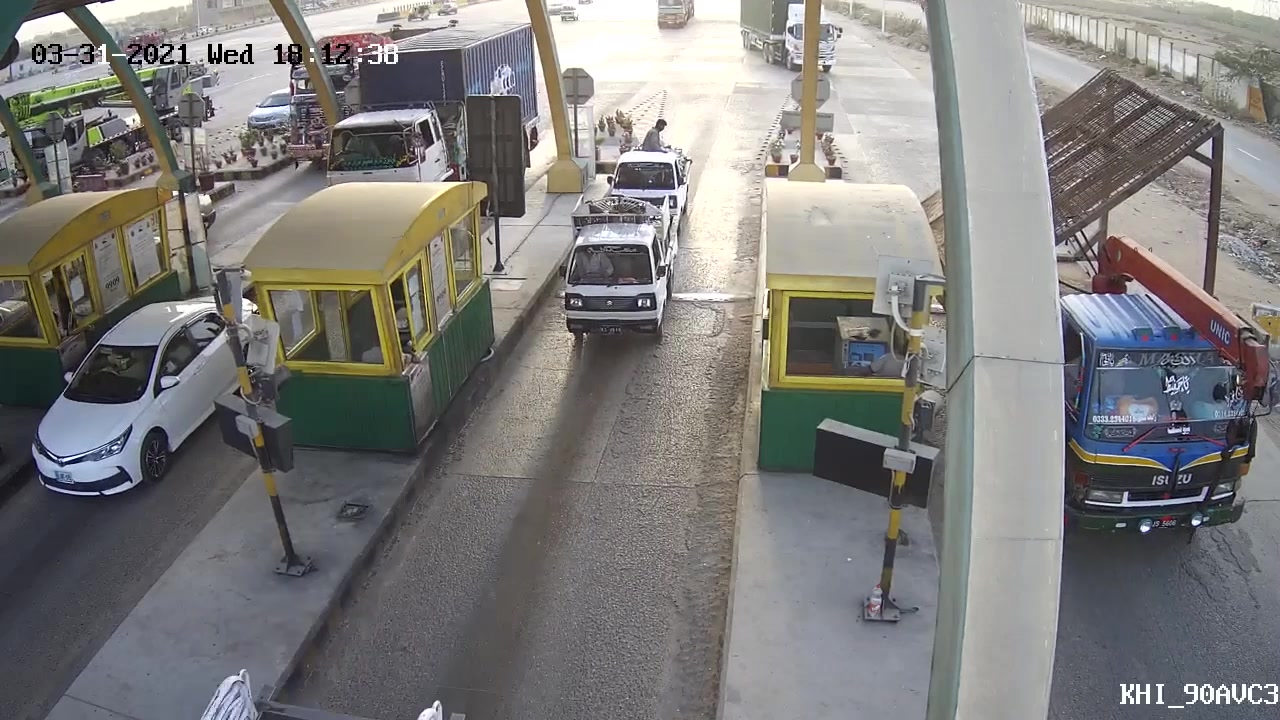F1: (545, 187, 683, 353)
